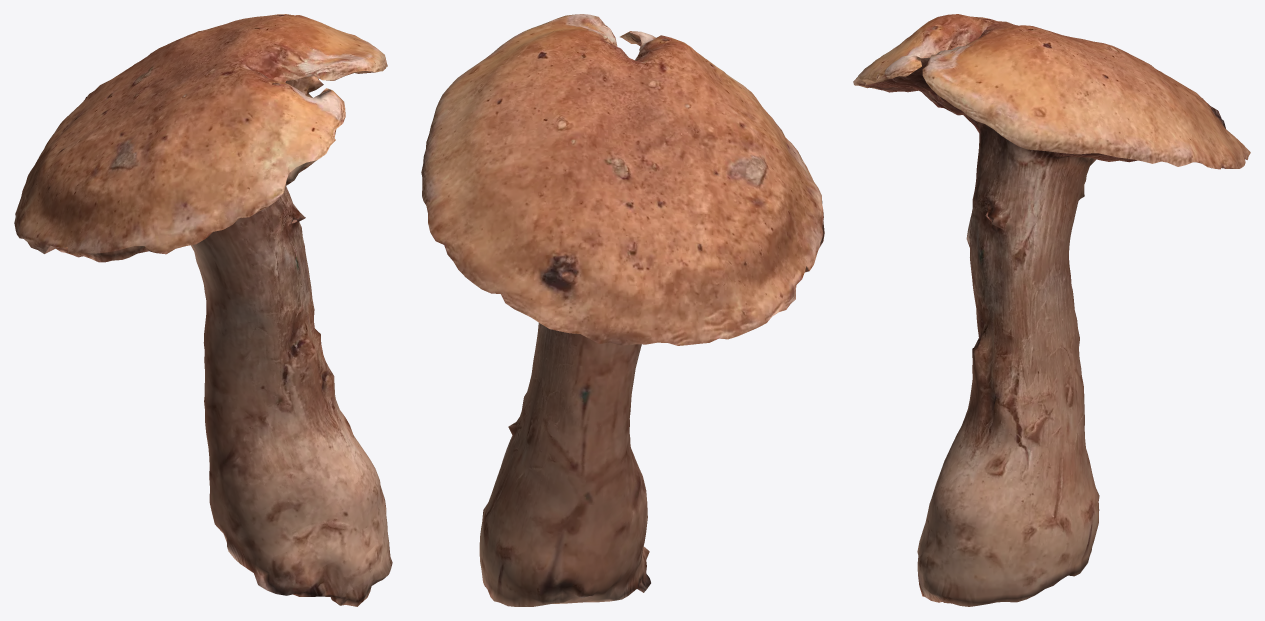
File: mushroom.glb
The picture shows the model from 3 angles, left to right: view 1: azimuth 30°, elevation 25°; view 2: azimuth 150°, elevation 25°; view 3: azimuth 270°, elevation 25°; orthographic projection. The views are drawn at different scales.
Visible parts, largest first — view 1: Object_2; view 2: Object_2; view 3: Object_2.
Part boxes in pixels (<box>): Object_2: <box>14,14,392,606</box>; Object_2: <box>421,14,824,606</box>; Object_2: <box>853,14,1250,606</box>.
Bounding box in the file's own units: 0.8168 × 1.3 × 0.8543.
1 material, 1 textured.
